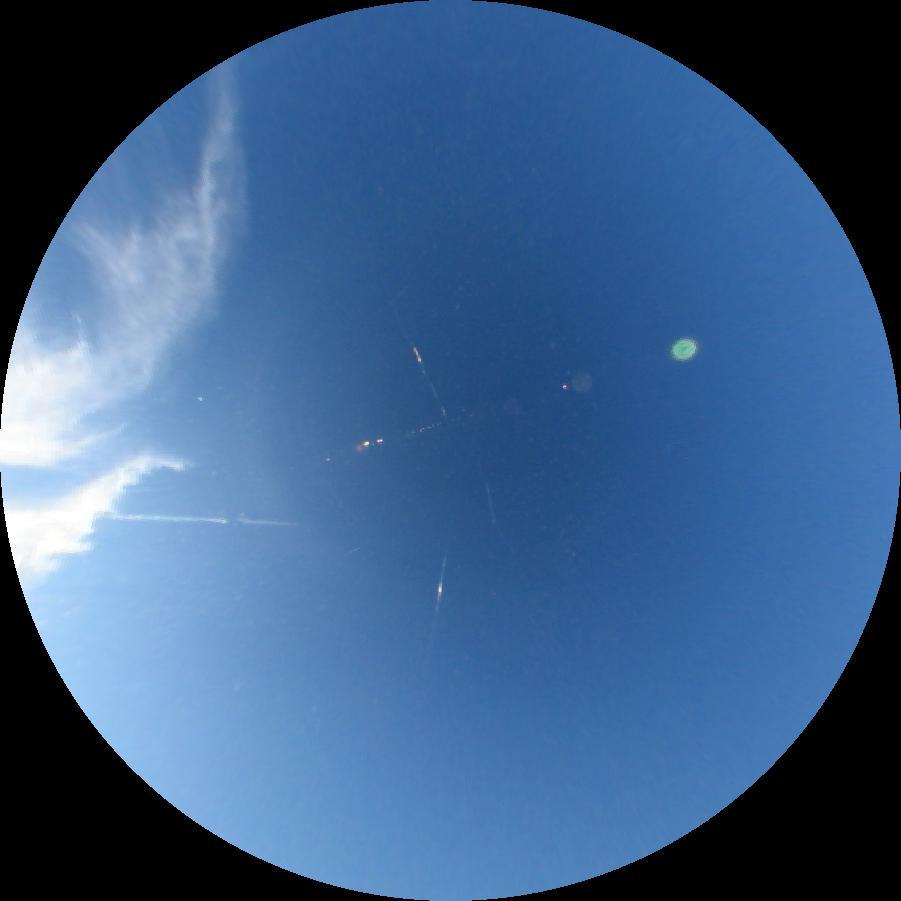parasite: (405, 333, 448, 415), (113, 511, 299, 526), (434, 551, 449, 610)
